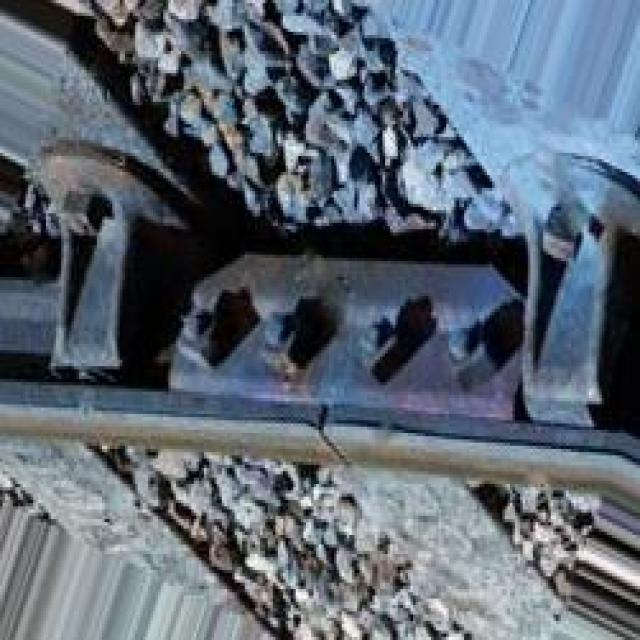Good Fasteners: (33, 140, 176, 366), (525, 204, 637, 423)
Good Joint: (171, 252, 523, 417)
